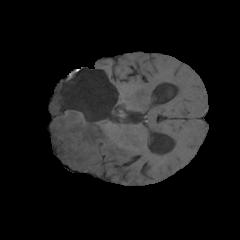glioma: (52, 85, 135, 170)
